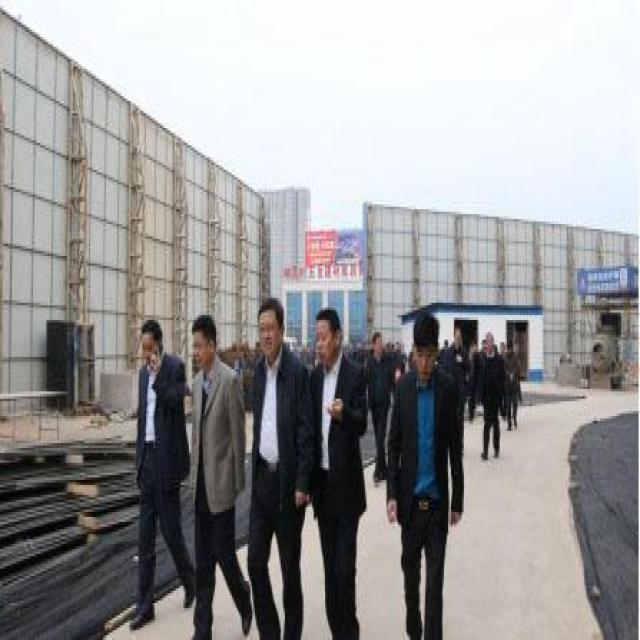no-helmet: (410, 306, 448, 392), (189, 308, 226, 379), (252, 293, 285, 364), (311, 305, 344, 374), (133, 313, 165, 374)
